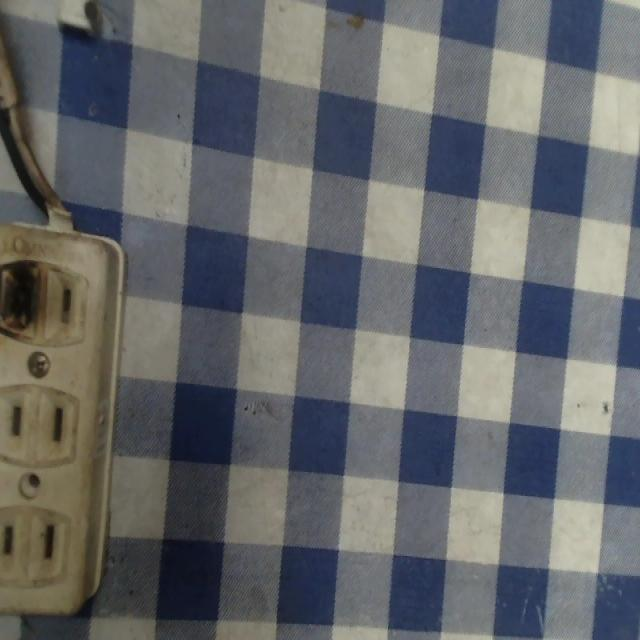-: (2, 252, 47, 343)
